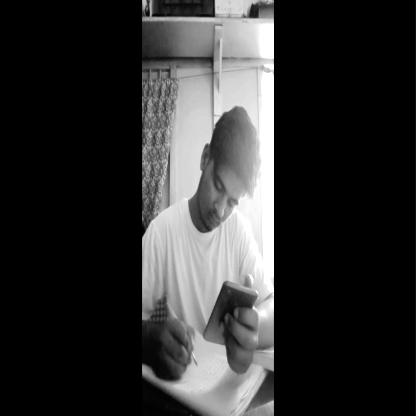Distracted: (205, 106, 258, 233)
